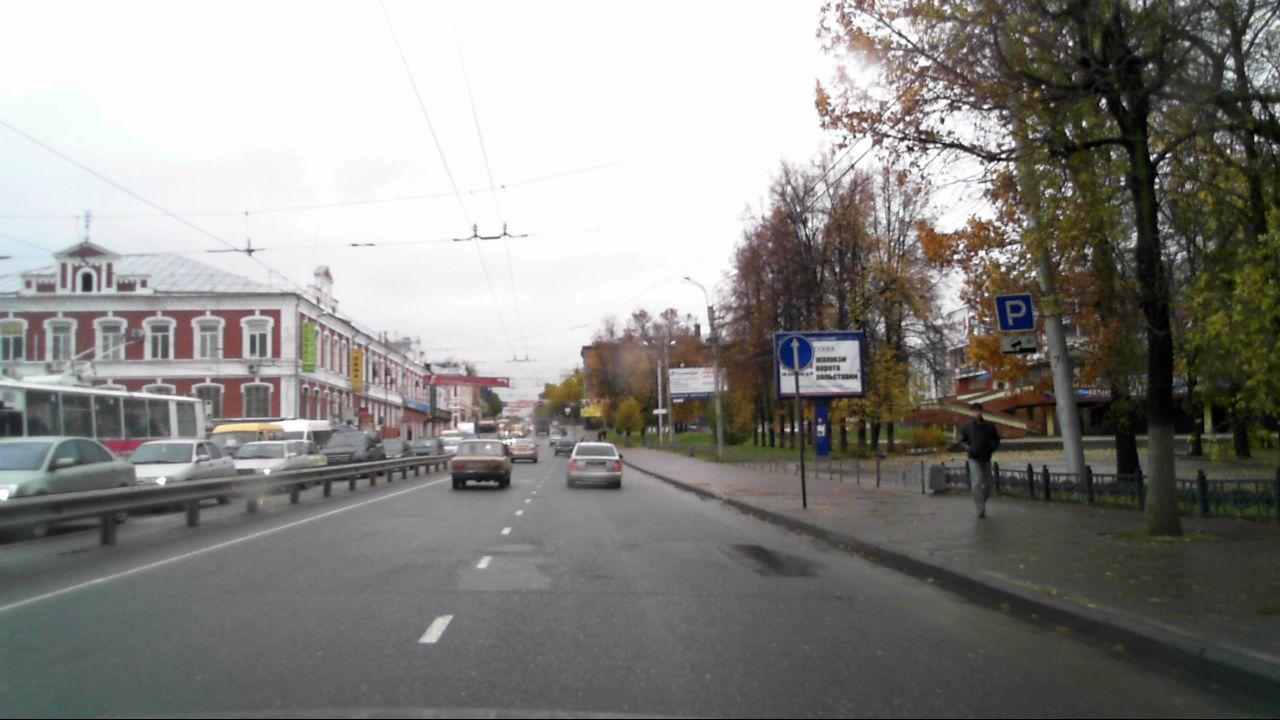4_1_1: (777, 334, 814, 372)
6_4: (993, 295, 1036, 332)
8_6_1: (999, 334, 1036, 353)
